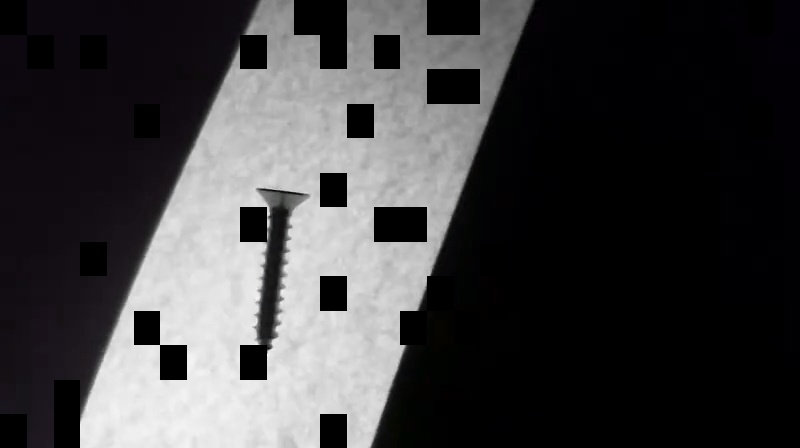S001: (250, 184, 310, 358)
